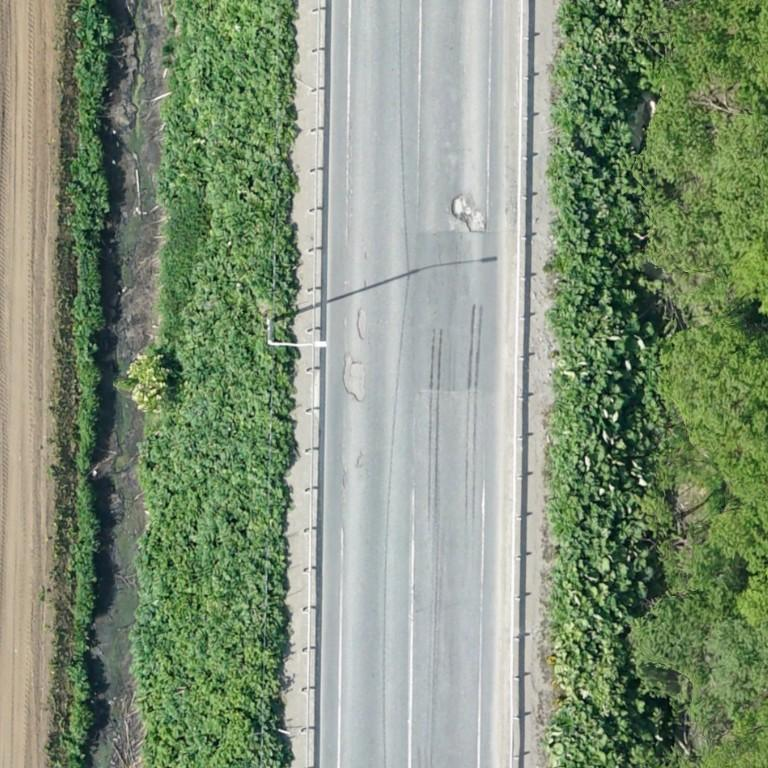hogweed: (129, 0, 299, 767)
